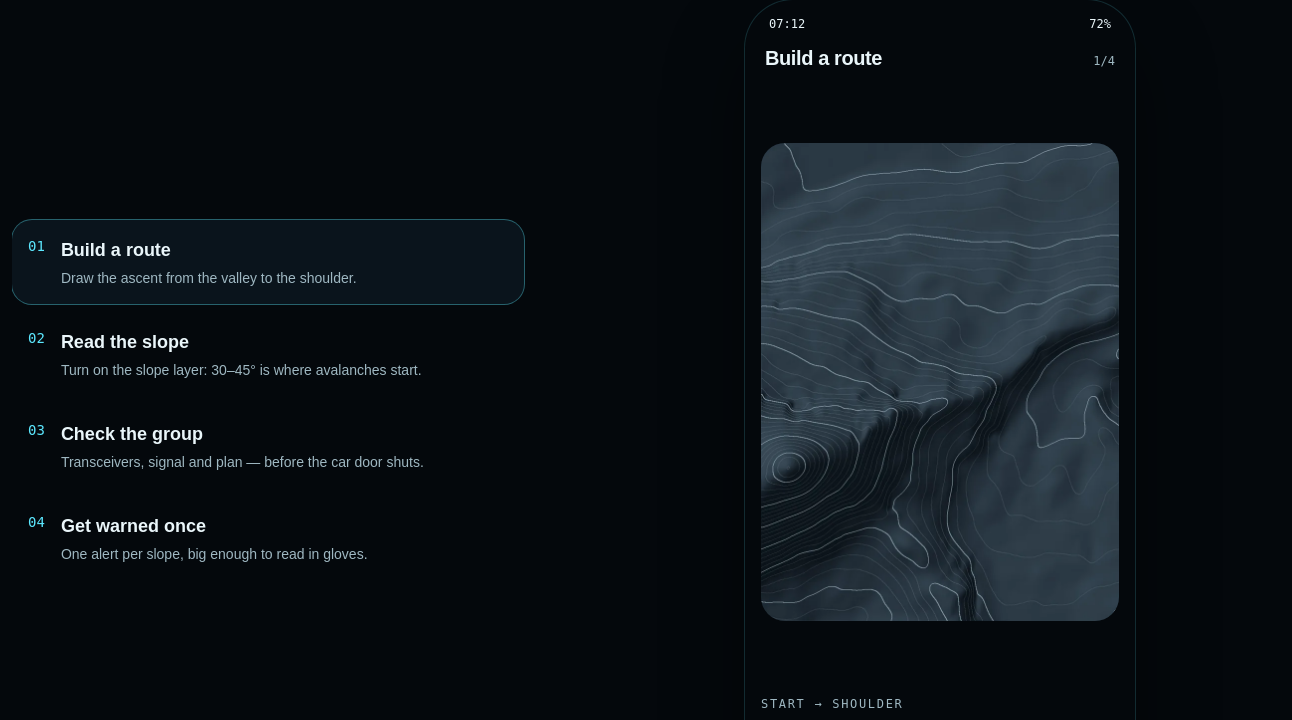
it: Prototype › marks the current step and lets you jump
Click the button "Check the group": (132, 434) [12,404,524,488]
(page scrolled)
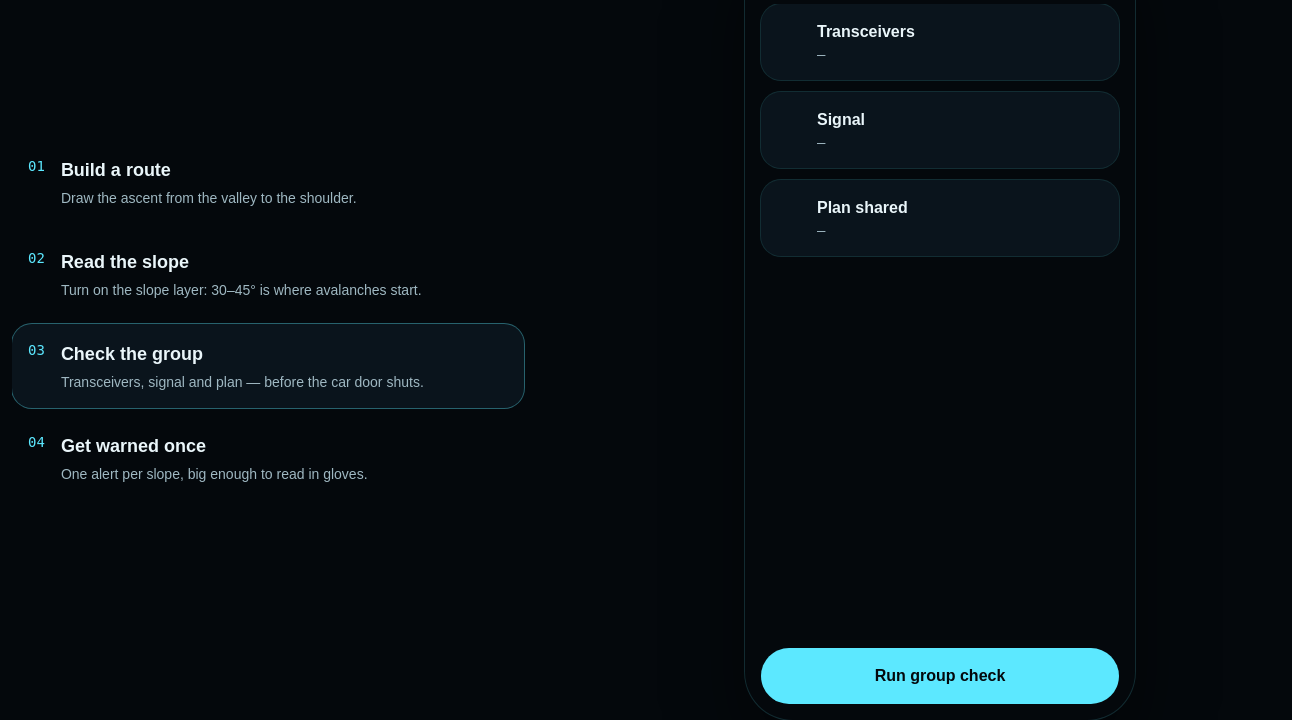
Now the button "Run group check" is shown, box [761,648,1119,704]
